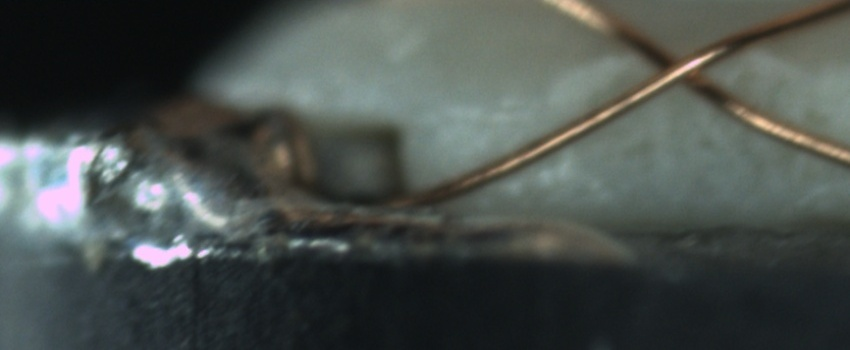CL: (625, 31, 728, 106)
DL: (440, 87, 552, 141)
TE: (248, 102, 330, 206)
